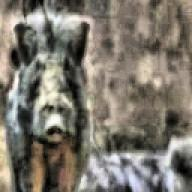boar: (3, 0, 93, 192)
